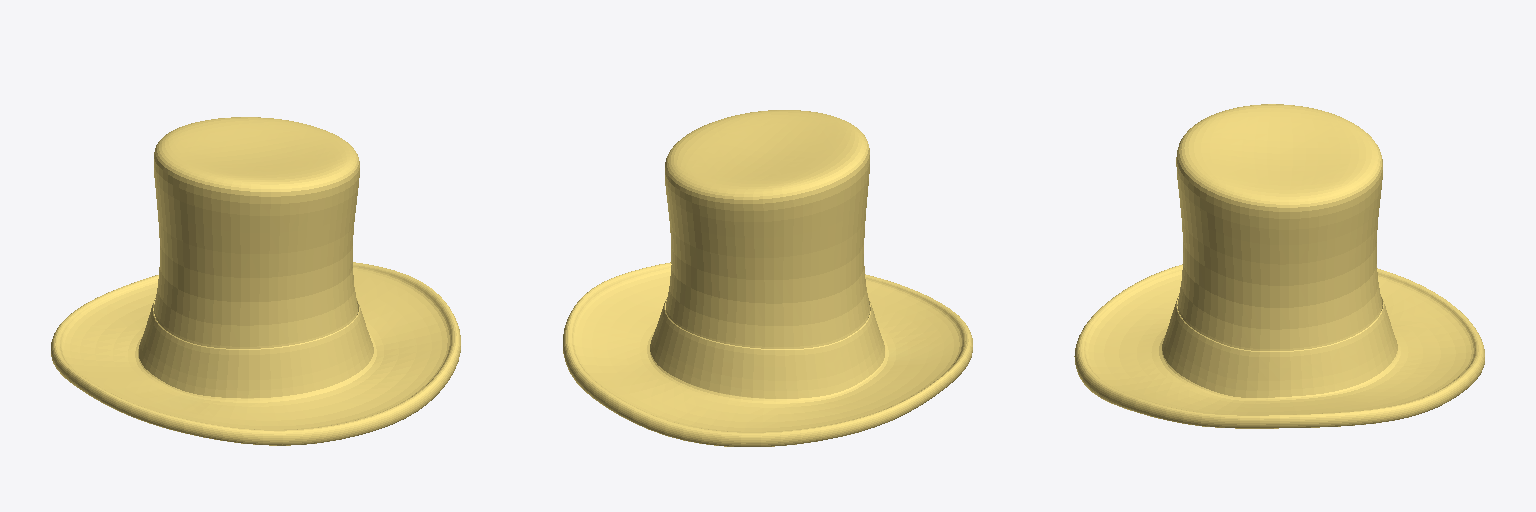
3 views of the same model, side by side, from view 1: azimuth 30°, elevation 25°; view 2: azimuth 150°, elevation 25°; view 3: azimuth 270°, elevation 25° (orthographic).
Visible parts, largest first — view 1: hat; view 2: hat; view 3: hat.
Boxes of the visible parts, <box> form: hat: <box>51,117,460,445</box>; hat: <box>563,110,972,446</box>; hat: <box>1074,104,1484,428</box>.
Size of the model in its own units: 1.65 by 1.01 by 1.65.
1 materials, 1 textured.